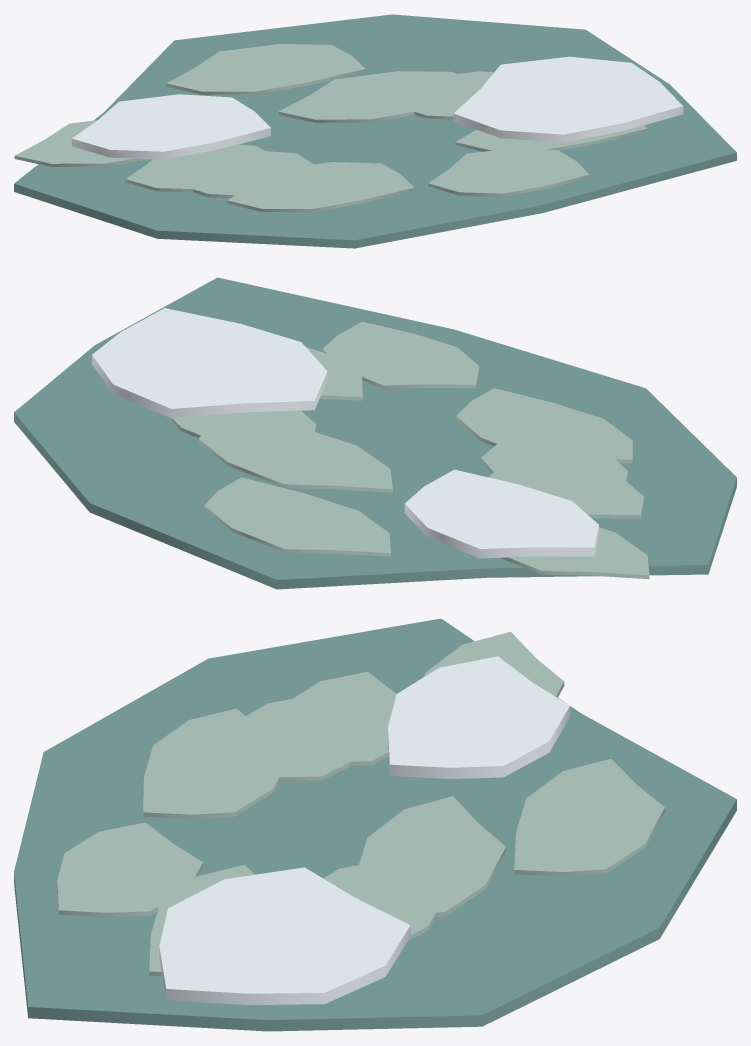
Rendered from patch-moss-snowy.glb.
3 renders of one model, top to bottom at view 1: azimuth 30°, elevation 25°; view 2: azimuth 150°, elevation 25°; view 3: azimuth 270°, elevation 25°, orthographic. The views are drawn at different scales.
Visible parts, largest first — view 1: patch-moss-kit-snowy-green, patch-moss-kit-snowy-leaf, patch-moss-kit-snowy-top; view 2: patch-moss-kit-snowy-green, patch-moss-kit-snowy-leaf, patch-moss-kit-snowy-top; view 3: patch-moss-kit-snowy-green, patch-moss-kit-snowy-leaf, patch-moss-kit-snowy-top.
Part boxes in pixels (<box>): patch-moss-kit-snowy-green: <box>14,14,736,248</box>; patch-moss-kit-snowy-leaf: <box>14,44,647,212</box>; patch-moss-kit-snowy-top: <box>71,56,683,159</box>; patch-moss-kit-snowy-green: <box>14,277,736,589</box>; patch-moss-kit-snowy-leaf: <box>168,321,649,579</box>; patch-moss-kit-snowy-top: <box>92,308,598,558</box>; patch-moss-kit-snowy-green: <box>14,618,736,1031</box>; patch-moss-kit-snowy-leaf: <box>57,631,664,976</box>; patch-moss-kit-snowy-top: <box>159,656,569,1004</box>.
Bounding box in the file's own units: 2.66 × 0.082 × 2.02.
